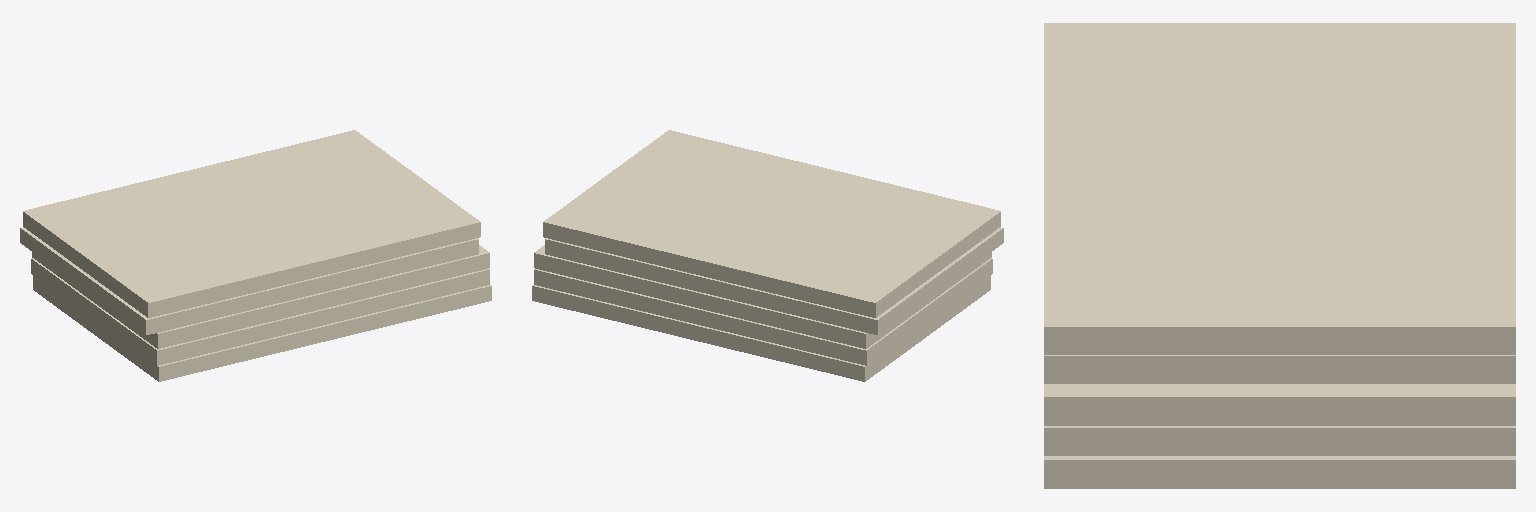
URDF robot description (nova_environment_object_0303):
<?xml version="1.0" encoding="utf-8"?>
<!-- Nova movable environment body for the bundled PyBullet launcher. SI metres/kg/radians. Loaded at its body origin; hinge/slider bodies use a fixed world_anchor base with one passive joint. Inertia is about COM. -->
<robot name="nova_environment_object_0303">
  <link name="body">
    <inertial>
      <origin xyz="0 0 0.015" rpy="0 0 0" />
      <mass value="0.06" />
      <inertia ixx="4.56022222e-05" iyy="9.698e-05" izz="0.000133582222" ixy="0" ixz="0" iyz="0" />
    </inertial>
    <visual>
      <origin xyz="0 0 0" rpy="0 0 0" />
      <geometry>
        <mesh filename="object_0303.obj" />
      </geometry>
      <material name="surface">
        <color rgba="0.91 0.88 0.8 1" />
      </material>
    </visual>
    <collision>
      <origin xyz="0 0 0" rpy="0 0 0" />
      <geometry>
        <mesh filename="object_0303_collision_00.obj" />
      </geometry>
    </collision>
  </link>
</robot>

--- Render facts (derived) ---
The picture shows the robot from 3 angles, left to right: view 1: azimuth 30°, elevation 25°; view 2: azimuth 150°, elevation 25°; view 3: azimuth 270°, elevation 25°; orthographic projection.
Robot: nova_environment_object_0303 — 1 links, 0 joints (none); root link body; default pose: all joints at 0.
Links seen in each view (by area): view 1: body; view 2: body; view 3: body.
Boxes of the visible links, x1=… form: body: x1=20, y1=130, x2=491, y2=381; body: x1=532, y1=130, x2=1003, y2=381; body: x1=1044, y1=23, x2=1515, y2=488.
Size in the robot's own frame: 0.1307 by 0.0827 by 0.0295 metres.
Meshes: 1 distinct files referenced, 1 mesh visuals loaded (1 OBJ).
